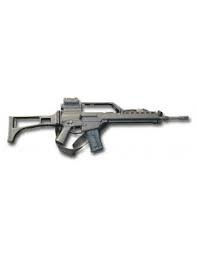Arma Real: (7, 95, 188, 153)
